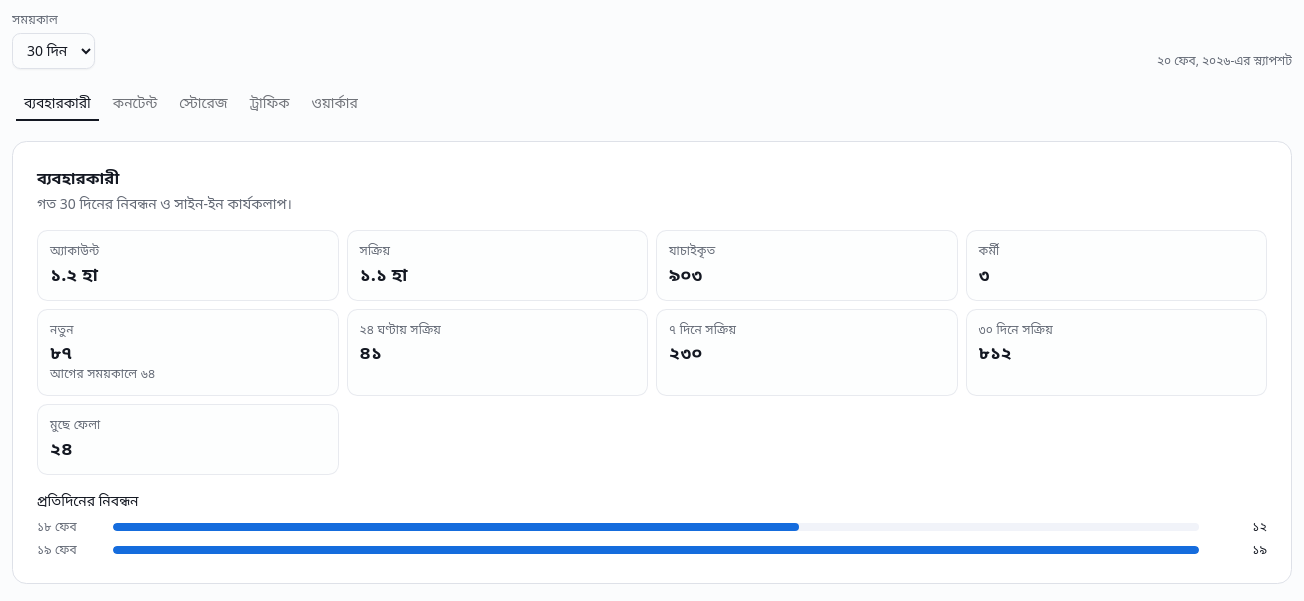
Test: Dashboard › renders under the Bangla catalog
The width and height of the screenshot is (1304, 601).
Expected: the heading "ব্যবহারকারী" is shown, [37,167,119,189]
Expected: the tab "কনটেন্ট" is shown, [104,88,166,117]
Click the tab "স্টোরেজ".
click(204, 103)  # box [170,88,237,117]
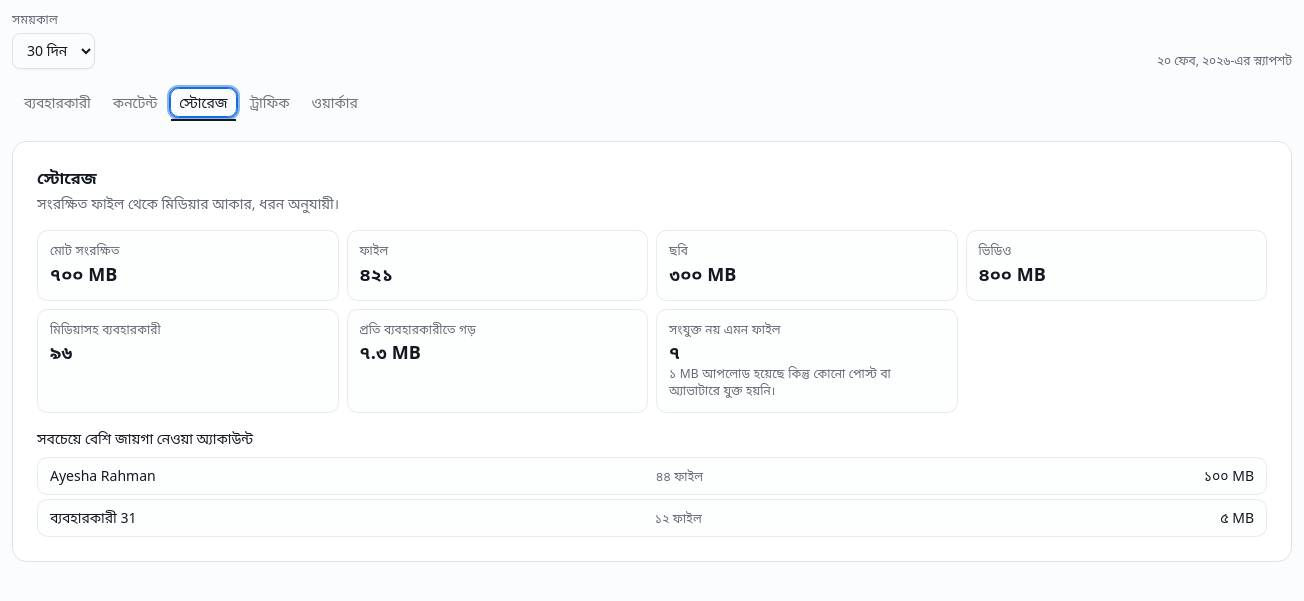
Result: the heading "স্টোরেজ" is shown at [37,167,97,189]
Result: the text "Ayesha Rahman" is shown at [50,466,156,486]
Result: the text "ব্যবহারকারী 31" is shown at [50,508,136,528]
